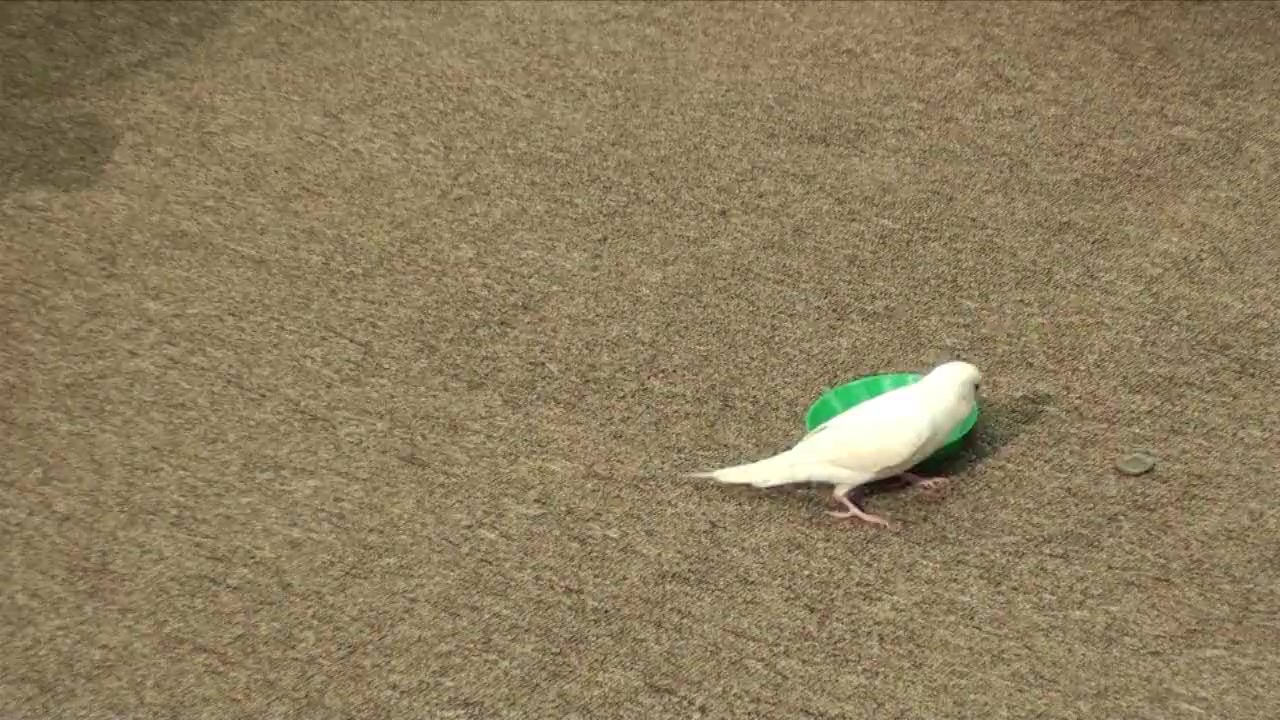bird: (693, 361, 986, 527)
